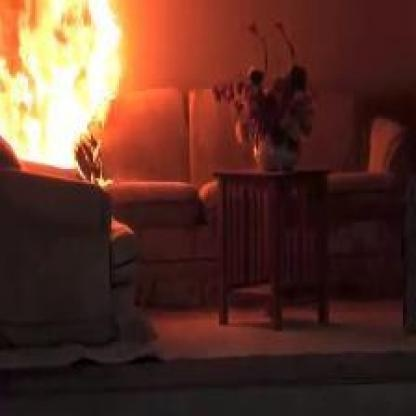fire: (0, 1, 138, 218)
